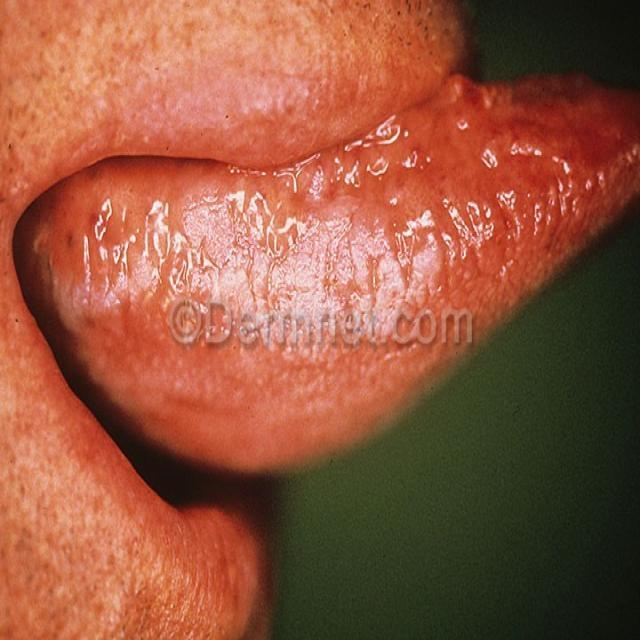Shingles: (57, 72, 586, 312)
